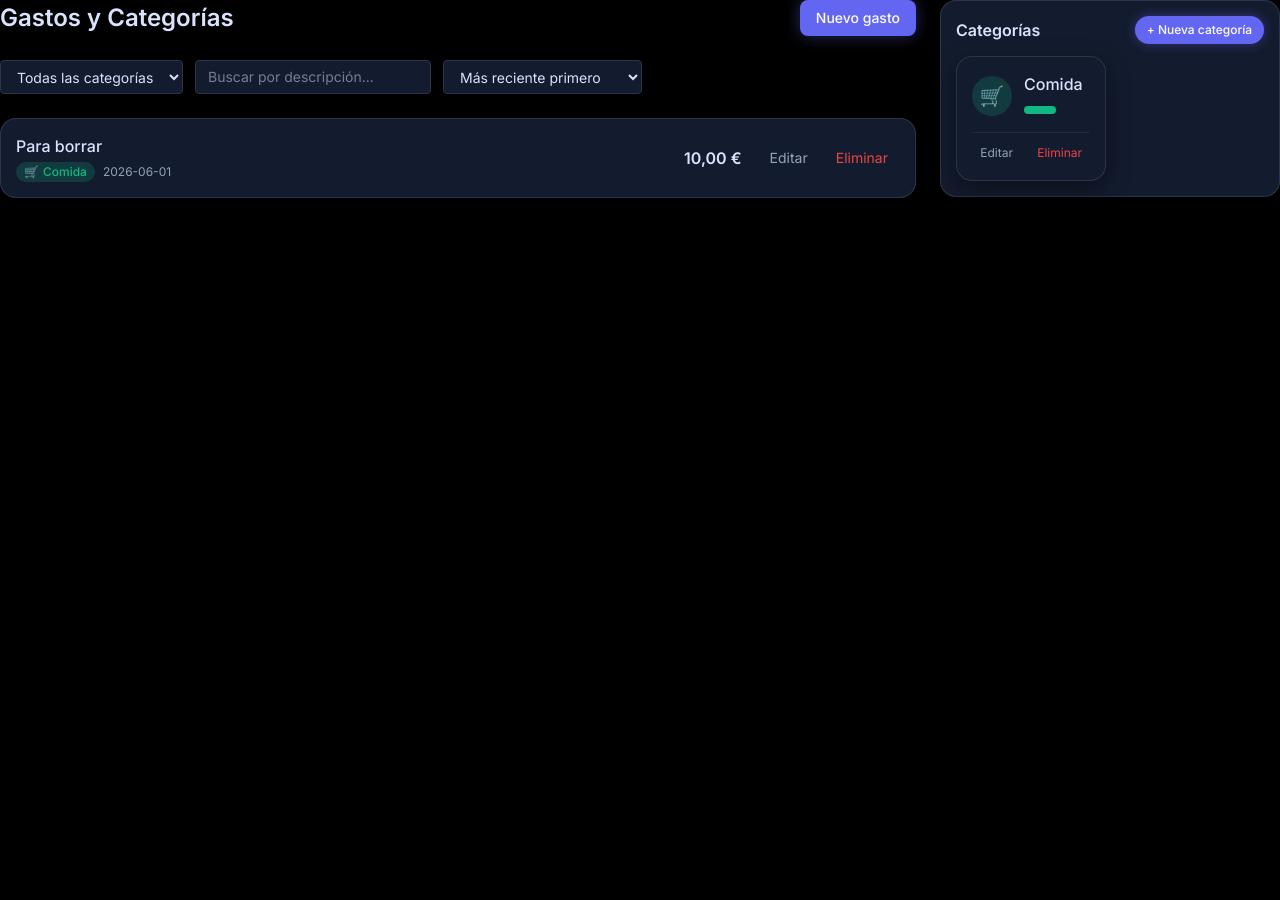
ExpensesPage — active period › opens confirm dialog when delete button is clicked
Click the button with aria-label "eliminar para borrar".
click(862, 158)  # box [824,142,900,174]
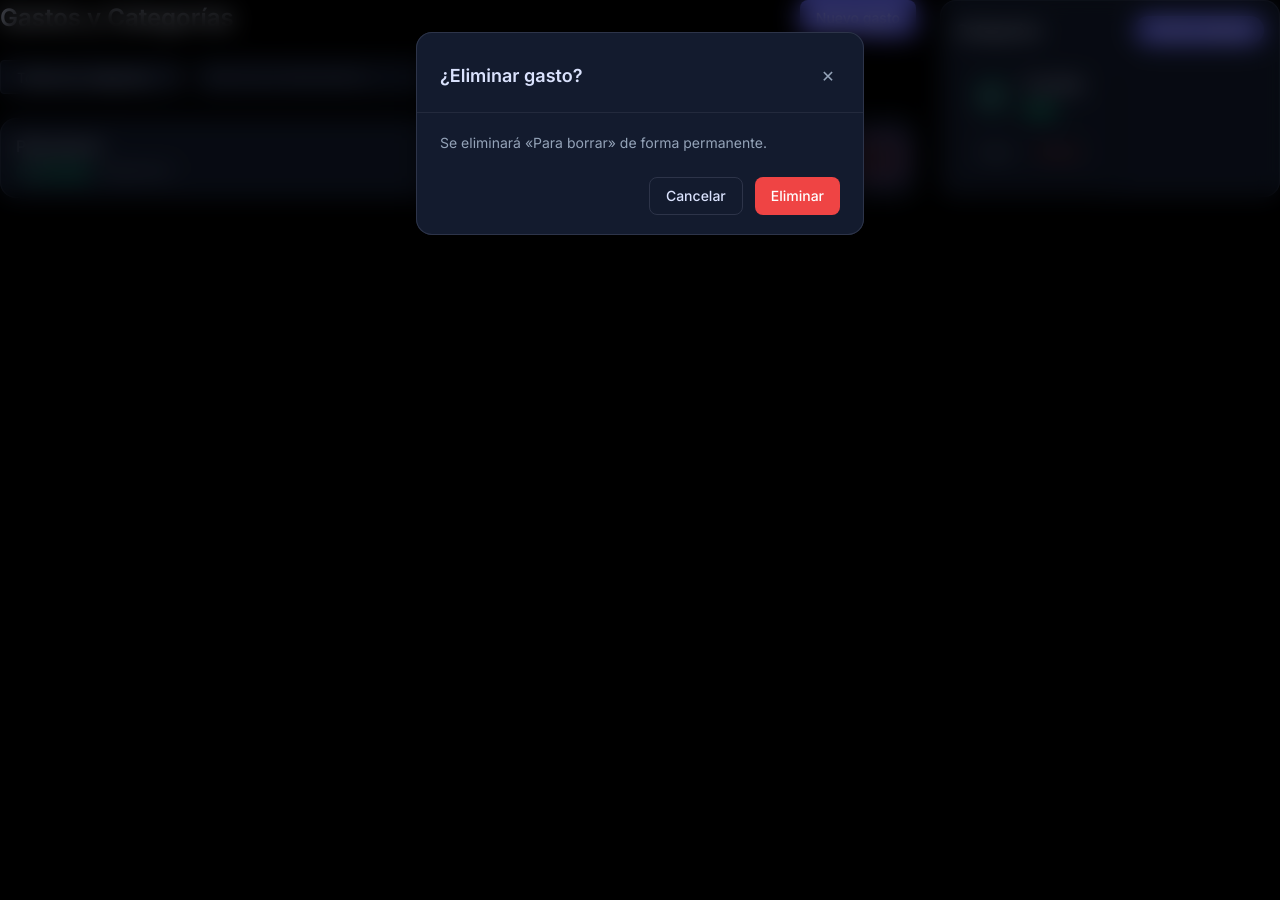
Now the dialog is shown
Now the heading "¿Eliminar gasto?" is shown, box [440,62,582,90]
